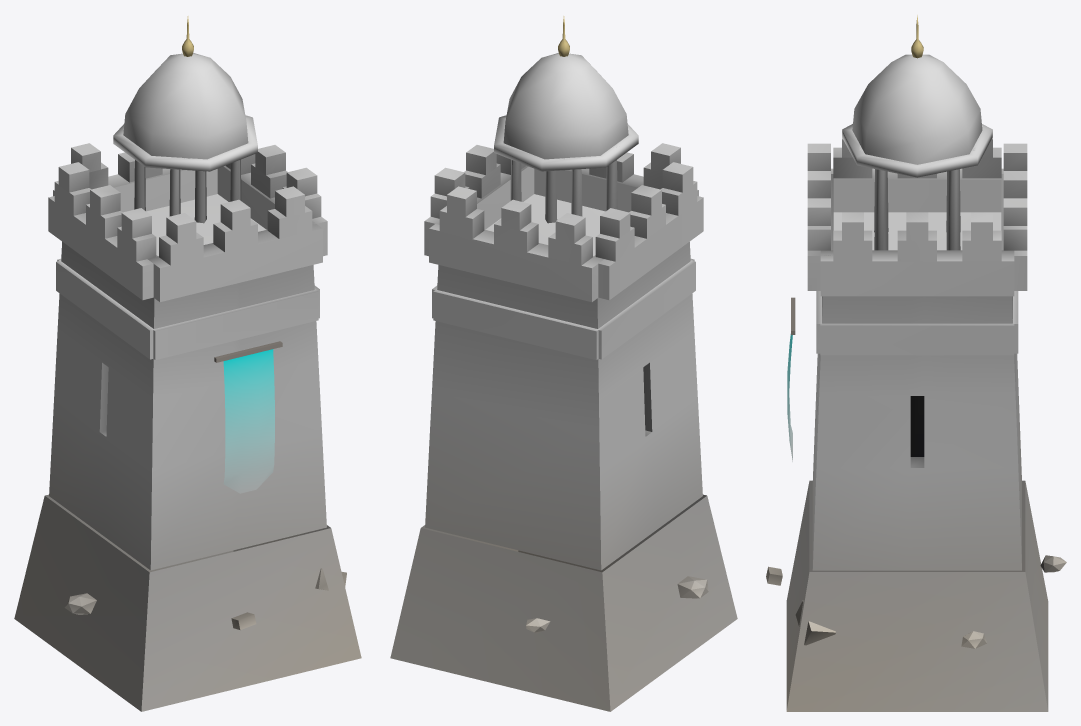
Rendered from arrow_tower_caliphate_lod1.glb.
3 renders of one model, left to right at view 1: azimuth 30°, elevation 25°; view 2: azimuth 150°, elevation 25°; view 3: azimuth 270°, elevation 25°, orthographic. The views are drawn at different scales.
Parts seen in each view (by area): view 1: arrow_tower_caliphate_lod1; view 2: arrow_tower_caliphate_lod1; view 3: arrow_tower_caliphate_lod1.
Boxes of the visible parts, x1,y1,x2,y2 form: arrow_tower_caliphate_lod1: (14, 16, 361, 711); arrow_tower_caliphate_lod1: (390, 16, 737, 711); arrow_tower_caliphate_lod1: (766, 15, 1066, 711).
Size of the model in its own units: 4.58 by 10.84 by 4.6.
